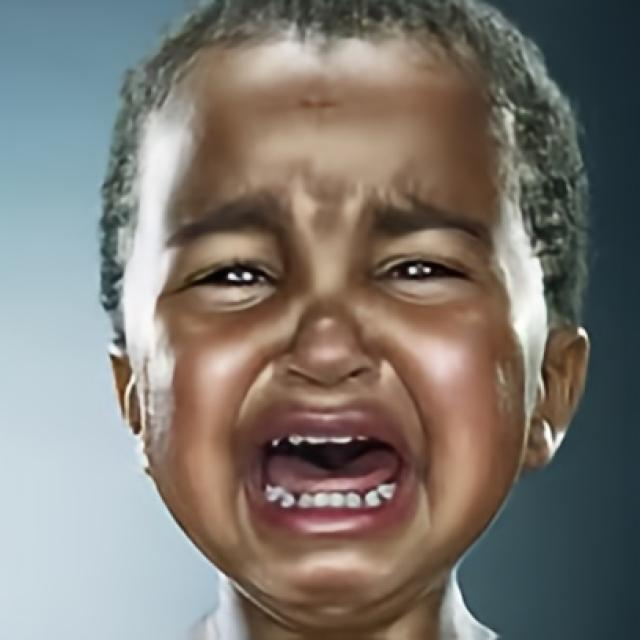sad: (134, 38, 520, 600)
